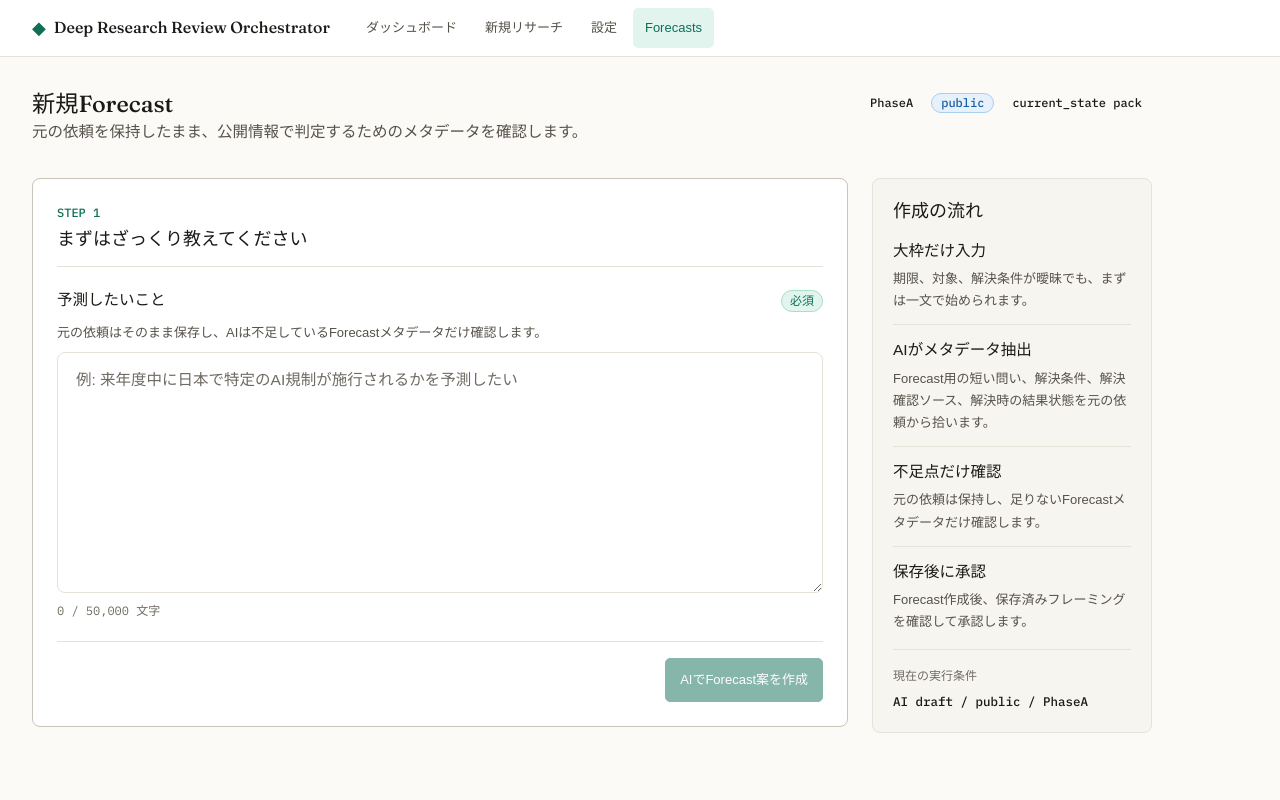
Test case: Forecast UI › preserves rough input when draft creation fails
The width and height of the screenshot is (1280, 800).
Type "Keep this rough idea" into the text box labelled "予測したいこと" at (440,472), box [57,352,823,593]
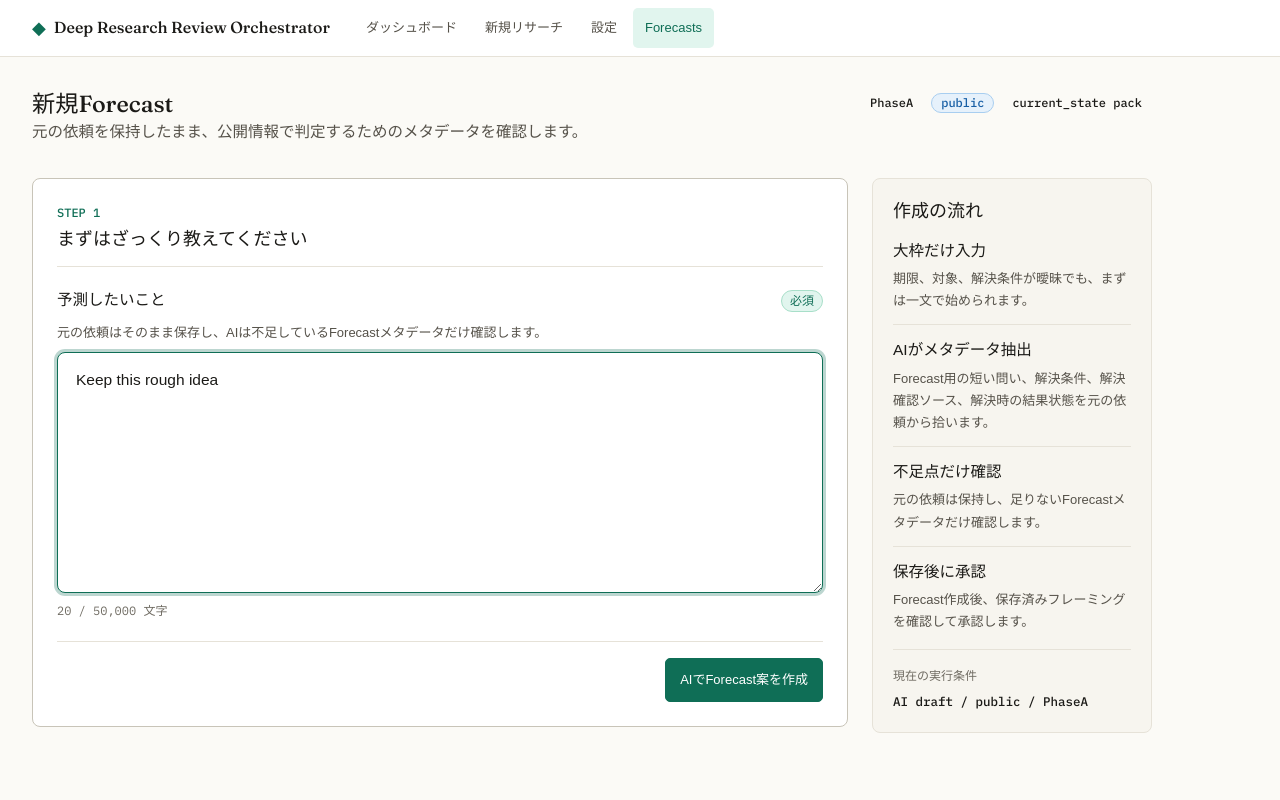
Click the button "AIでForecast案を作成" at (744,680), box [665,658,823,702]
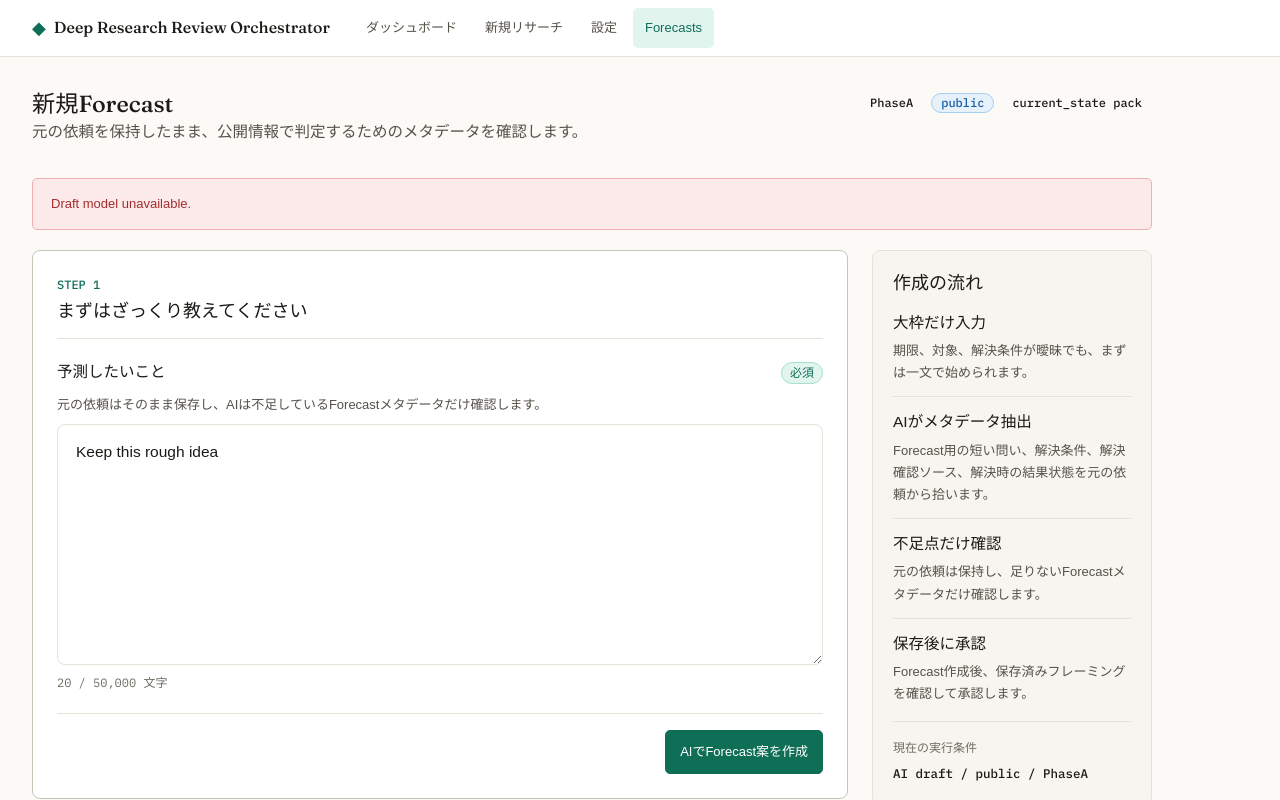
Now the message reads "Draft model unavailable.", box [51,196,191,211]
